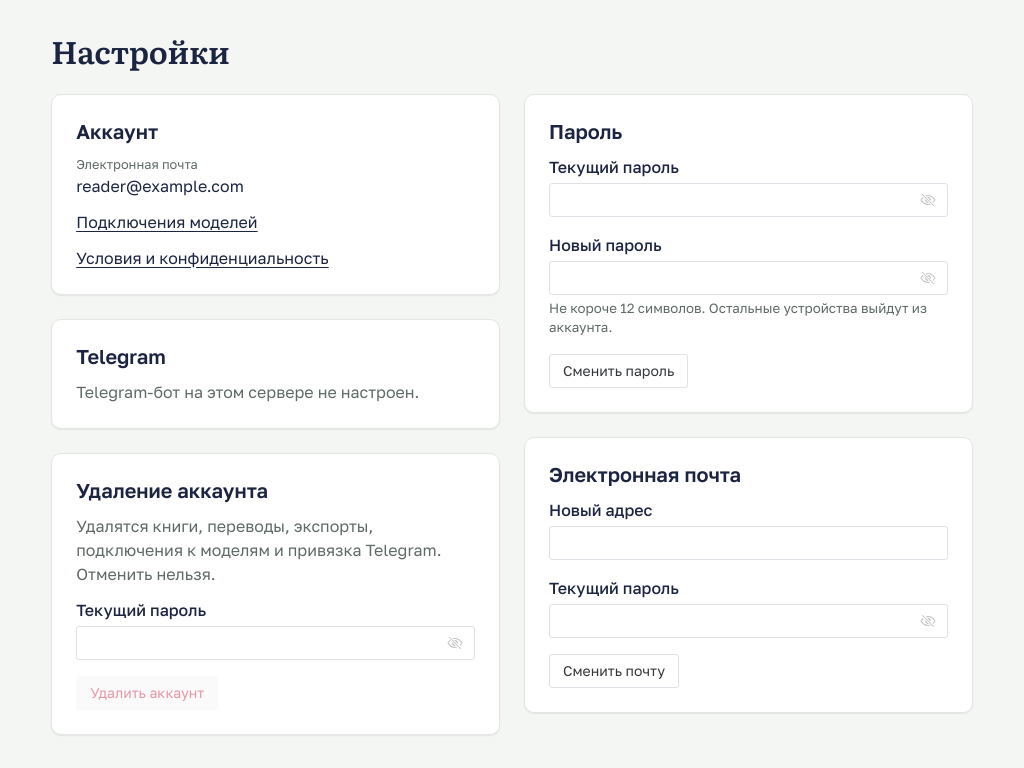
Test: удаление аккаунта › объясняет, что удалится, и спрашивает подтверждение
Expected: the element with class "delete-account" shows "книги, переводы", [76,516,442,584]
Expected: the element with class "delete-account" shows "Отменить нельзя", [76,516,442,584]
Step 1. Type "right-password-1" into the password field named "delete_password" → [266, 643], box [88,626,443,660]
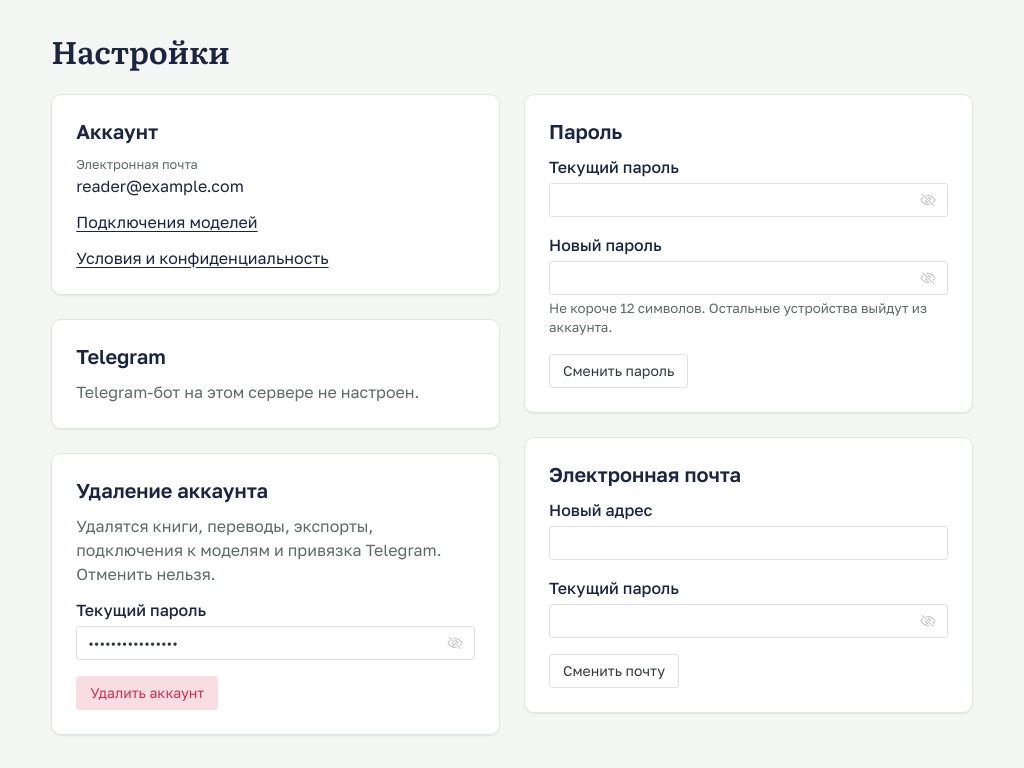
Step 2. Click the button with class "delete" → [147, 693], box [76,676,218,710]
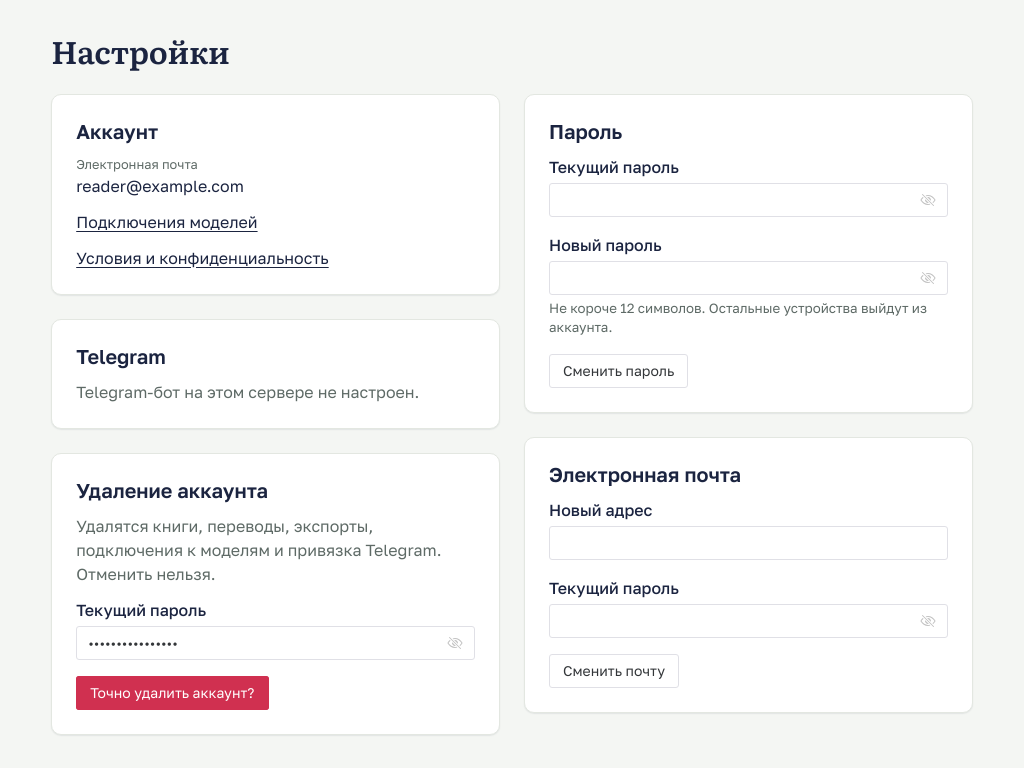
Expected: the button with class "delete" reads "Точно удалить аккаунт?", [76,676,268,710]
